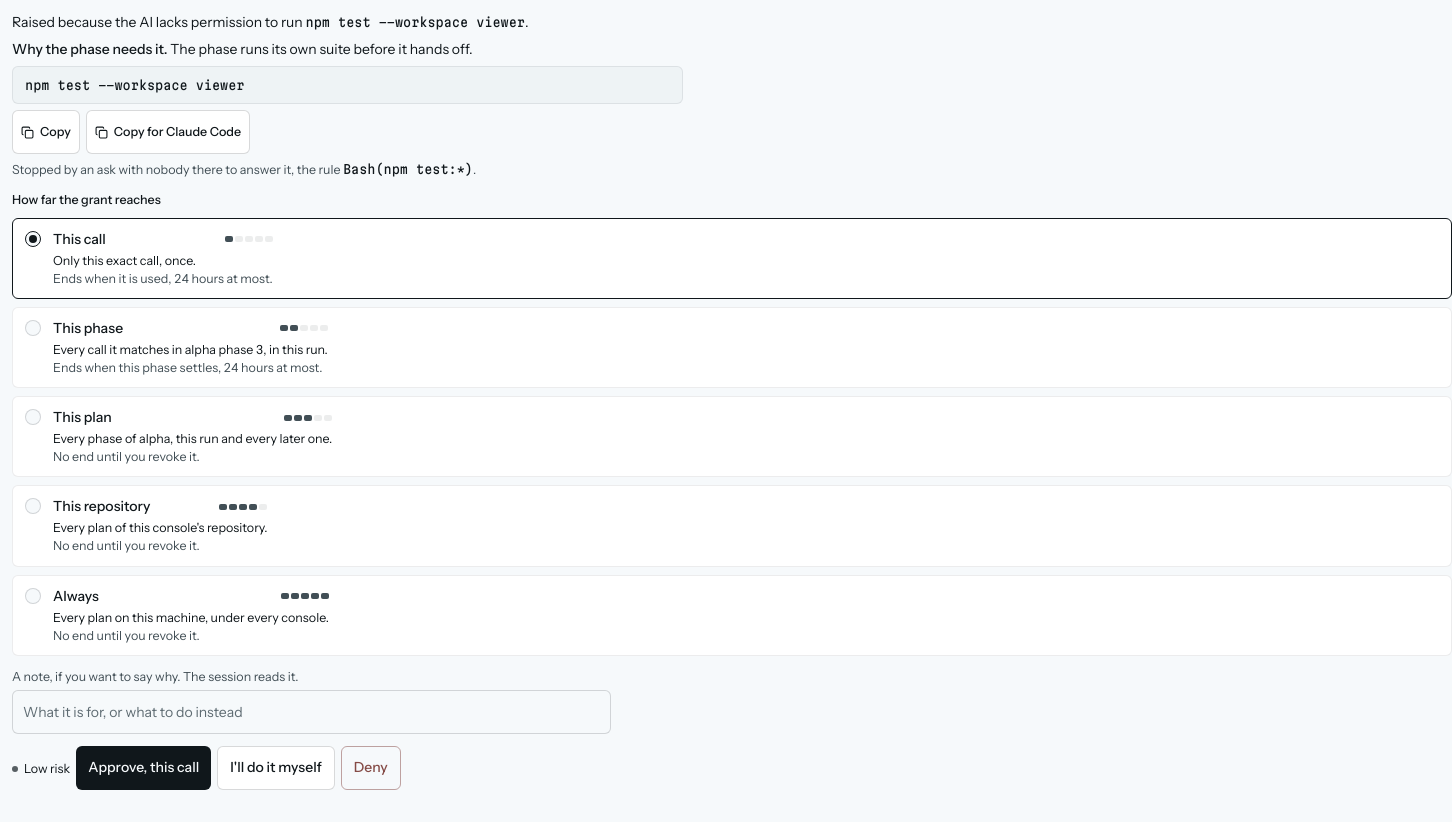
Test case: PC-8 a grant that went through is held on the page, not taken off it (#270) › the card says the item is waiting on the console, offers no second Grant, and tells the page
The image size is (1452, 822).
Click the button with test id "turn-primary".
click(144, 768)  # box [76,746,211,790]
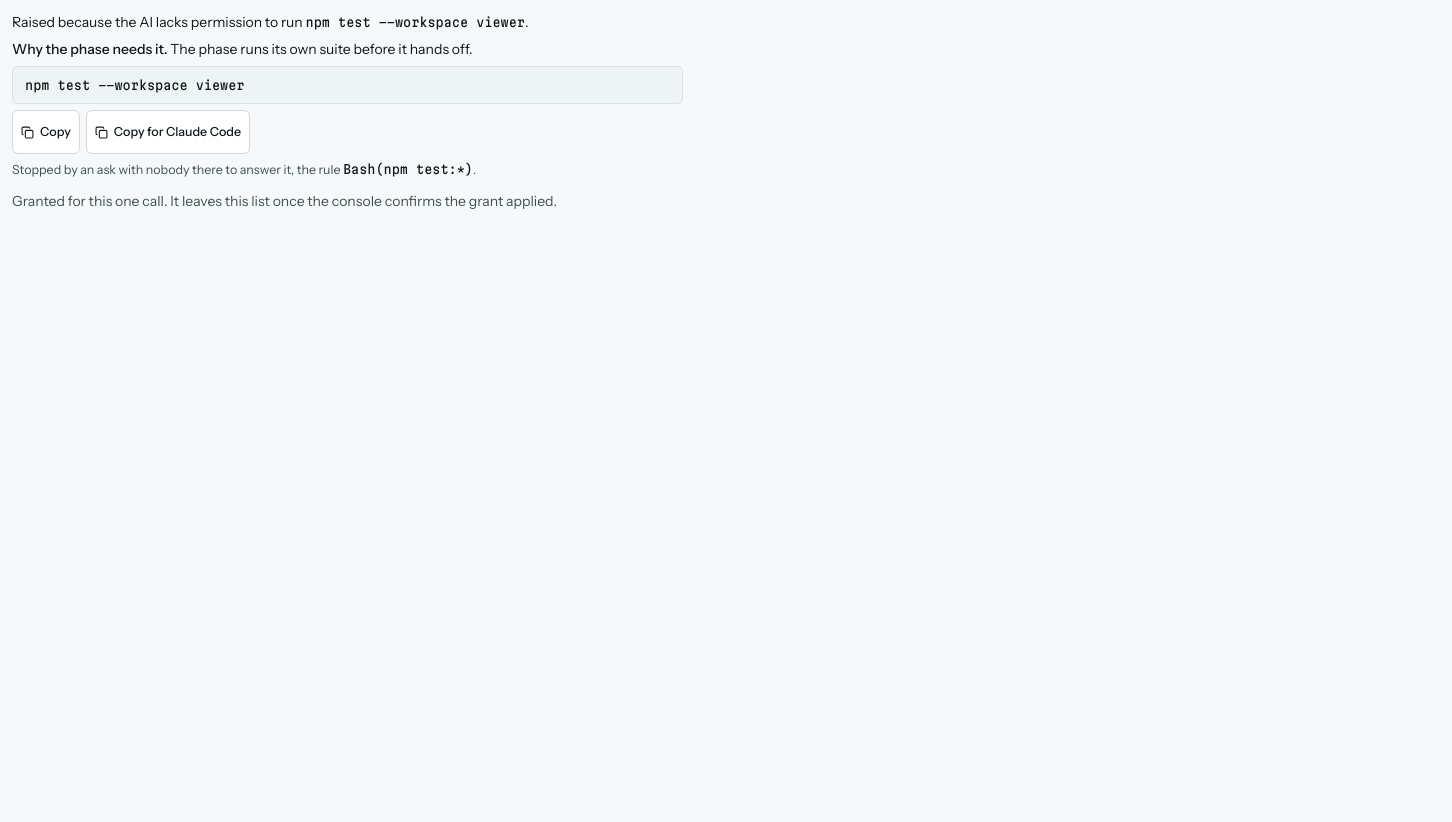
Expected: the text with test id "grant-settling" shows "Granted for this one call", [12,192,557,210]
Expected: the text with test id "grant-settling" shows "leaves this list once the console confirms", [12,192,557,210]
Expected: the button with test id "turn-primary" is gone
